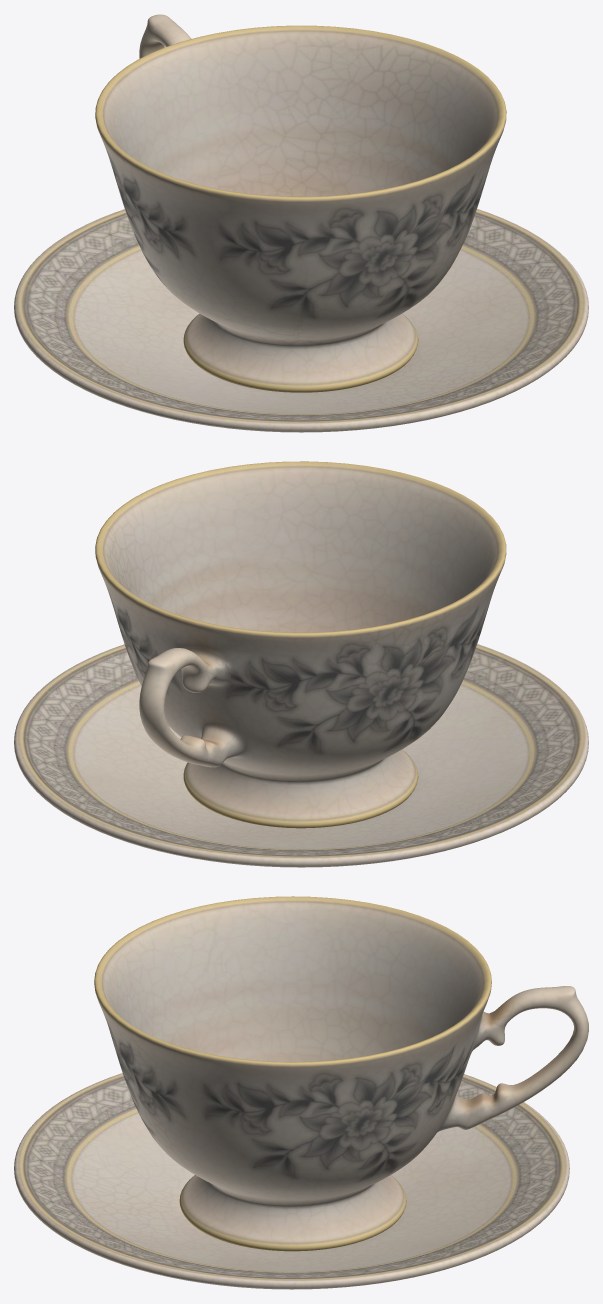
The model's file is cup.glb.
3 renders of one model, top to bottom at view 1: azimuth 30°, elevation 25°; view 2: azimuth 150°, elevation 25°; view 3: azimuth 270°, elevation 25°, orthographic. The views are drawn at different scales.
Visible parts, largest first — view 1: tea_cup, tea_saucer; view 2: tea_cup, tea_saucer; view 3: tea_cup, tea_saucer.
Part boxes in pixels (box(x1,y1,x2,y2)): tea_cup: box(95, 14, 506, 392); tea_saucer: box(14, 209, 588, 432); tea_cup: box(95, 461, 506, 828); tea_saucer: box(14, 644, 588, 867); tea_cup: box(94, 896, 588, 1251); tea_saucer: box(14, 1073, 569, 1289).
Bounding box in the file's own units: 0.1486 × 0.0704 × 0.1537.
2 materials, 2 textured.
